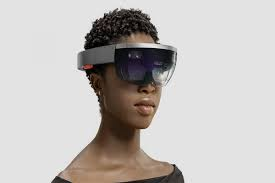hololens: (76, 42, 178, 90)
